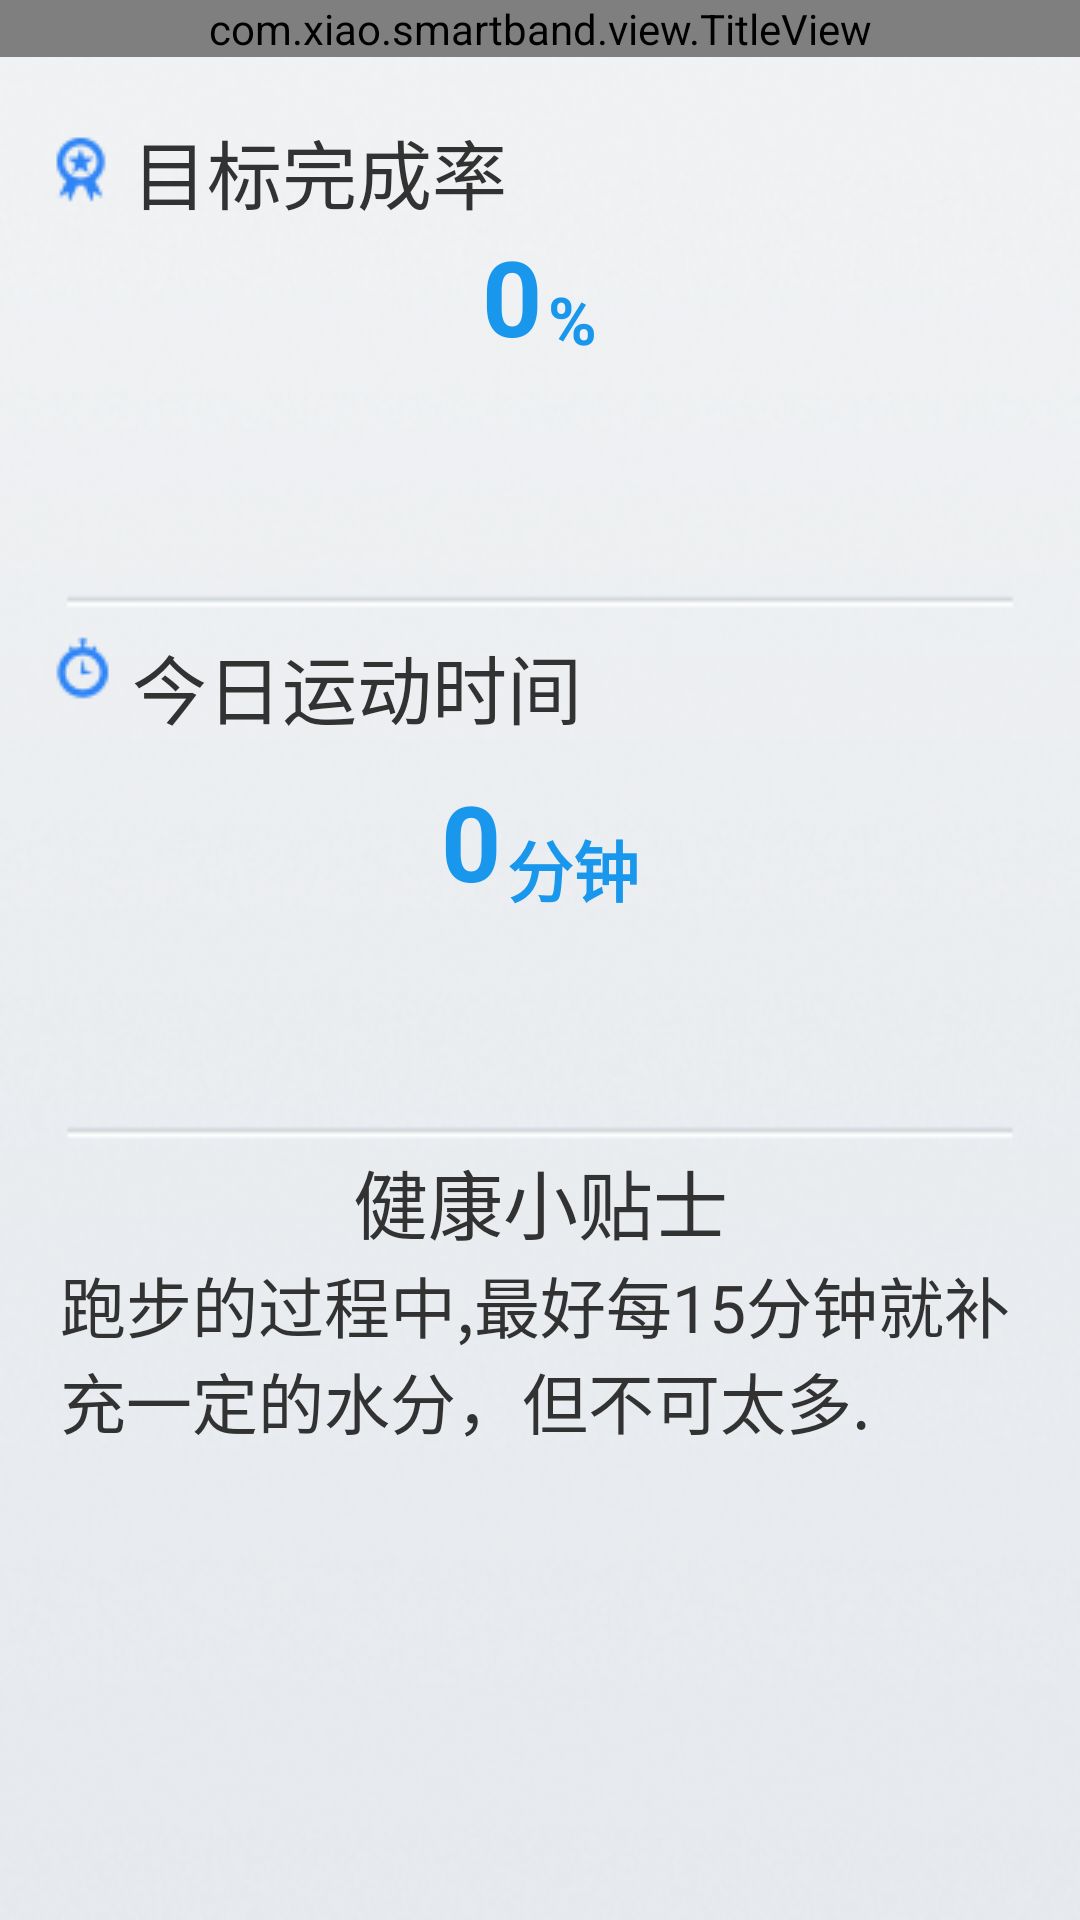

Screen size 1080px×1920px. Icon name, then its center in pixels as (x,y):
sport aim: (81,169)
sport current: (82,668)
